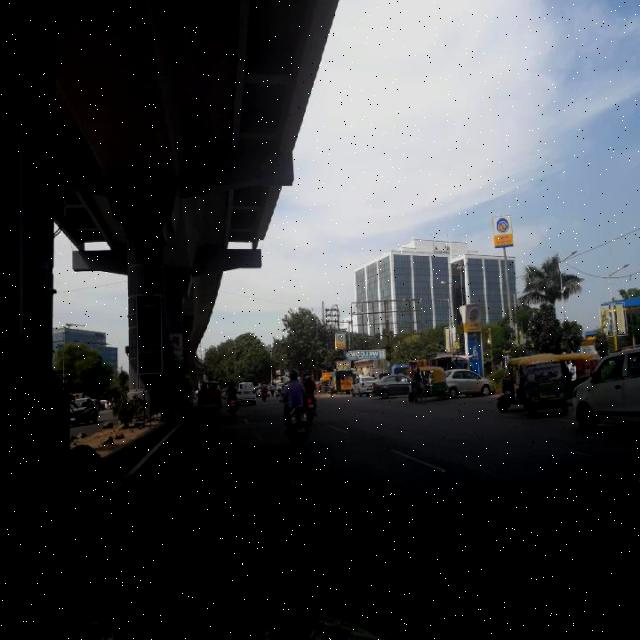D44: (350, 567, 391, 626)
